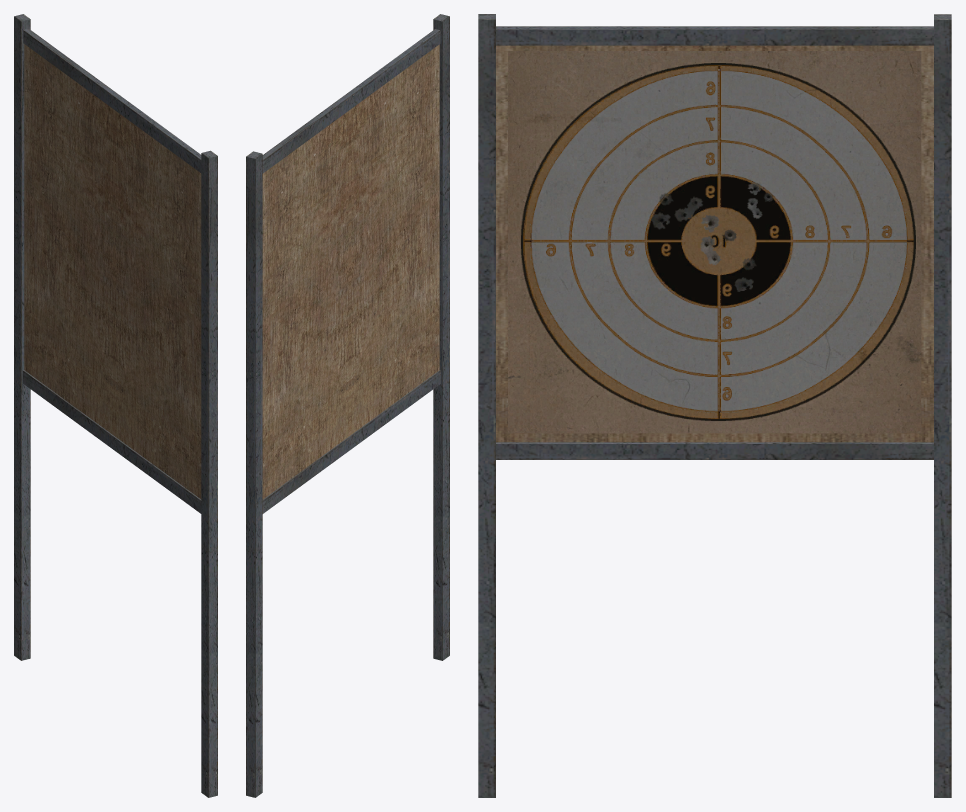
File: Prop_Bz03.glb
3 views of the same model, side by side, from view 1: azimuth 30°, elevation 25°; view 2: azimuth 150°, elevation 25°; view 3: azimuth 270°, elevation 25° (orthographic). The views are drawn at different scales.
Parts seen in each view (by area): view 1: xiutz_bz_03_0; view 2: xiutz_bz_03_0; view 3: xiutz_bz_03_0.
Part boxes in pixels (box(x1,y1,x2,y2)): xiutz_bz_03_0: box(14, 14, 217, 797); xiutz_bz_03_0: box(246, 14, 449, 797); xiutz_bz_03_0: box(478, 14, 951, 797).
Size of the model in its own units: 0.0481 by 3.11 by 1.71.
2 materials, 2 textured.
